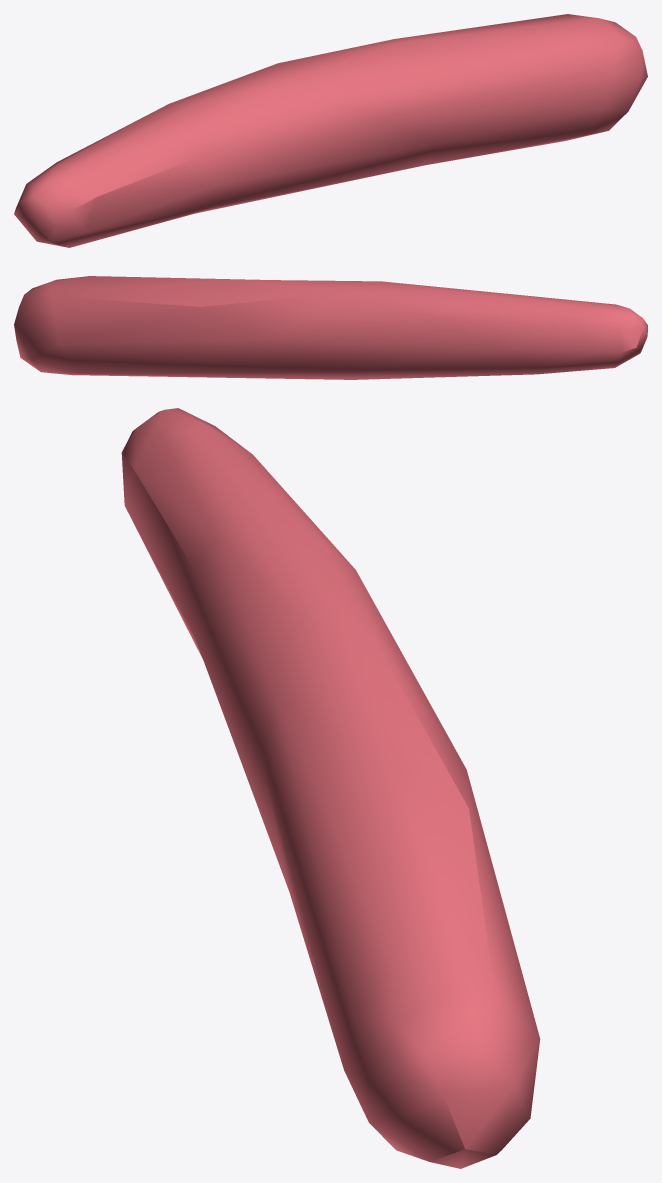
The model's file is fma9425_fj3061.glb.
The picture shows the model from 3 angles, top to bottom: view 1: azimuth 30°, elevation 25°; view 2: azimuth 150°, elevation 25°; view 3: azimuth 270°, elevation 25°; orthographic projection. The views are drawn at different scales.
Parts seen in each view (by area): view 1: FMA9425_FJ3061; view 2: FMA9425_FJ3061; view 3: FMA9425_FJ3061.
Boxes of the visible parts, bbox=[...] form: FMA9425_FJ3061: bbox=[14, 14, 647, 247]; FMA9425_FJ3061: bbox=[14, 276, 647, 379]; FMA9425_FJ3061: bbox=[121, 408, 540, 1168].
Bounding box in the file's own units: 0.0168 × 0.00381 × 0.00544.
